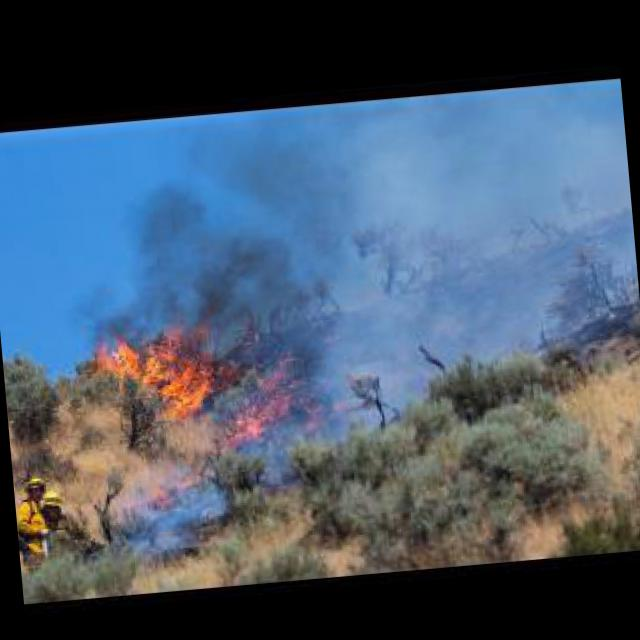fire: (68, 296, 231, 434), (219, 354, 354, 444)
smoke: (122, 160, 340, 384)
